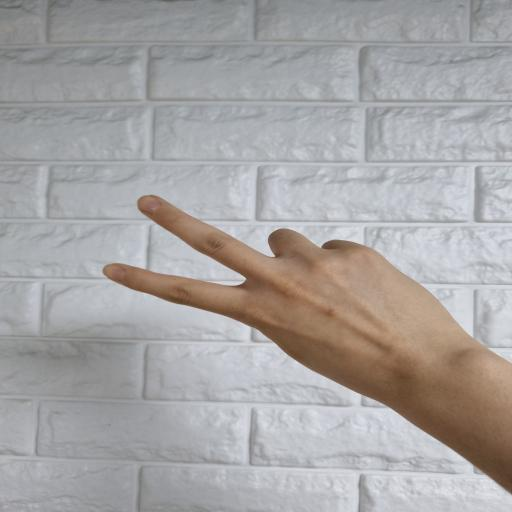Scissors: (101, 187, 512, 493)
